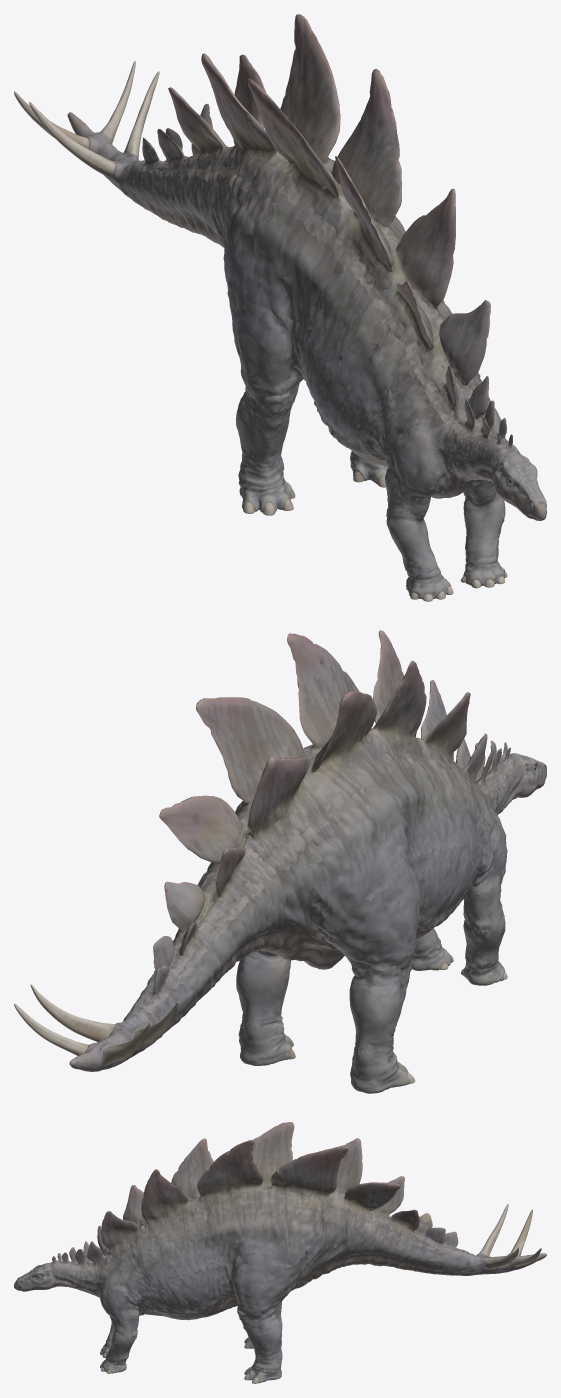
File: jurassic_world_dominion_stegomsfs2024orbx.glb
3 renders of one model, top to bottom at view 1: azimuth 30°, elevation 25°; view 2: azimuth 150°, elevation 25°; view 3: azimuth 270°, elevation 25°, orthographic. The views are drawn at different scales.
Visible parts, largest first — view 1: STEGOSAURUS_body, STEGOSAURUS_claws.001, STEGOSAURUS_claws; view 2: STEGOSAURUS_body, STEGOSAURUS_claws.001; view 3: STEGOSAURUS_body, STEGOSAURUS_claws.001.
Boxes of the visible parts, left/top/right/bottom form: STEGOSAURUS_body: left=67, top=14, right=546, bottom=599; STEGOSAURUS_claws.001: left=14, top=61, right=159, bottom=178; STEGOSAURUS_claws: left=243, top=471, right=507, bottom=601; STEGOSAURUS_body: left=69, top=630, right=546, bottom=1093; STEGOSAURUS_claws.001: left=14, top=984, right=179, bottom=1065; STEGOSAURUS_body: left=14, top=1122, right=546, bottom=1383; STEGOSAURUS_claws.001: left=479, top=1203, right=541, bottom=1269.
Size of the model in its own units: 2.14 by 5.02 by 10.38.
3 materials, 1 textured.
